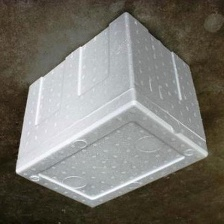foam_box: (10, 7, 213, 212)
